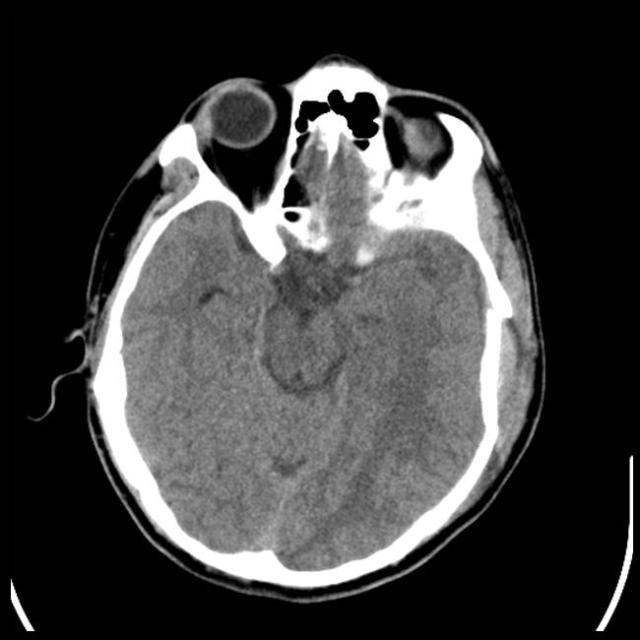lesion: (70, 56, 541, 593)
